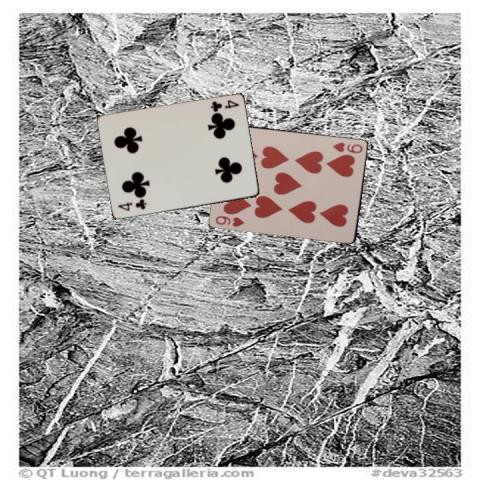4c: (207, 98, 241, 114), (115, 196, 148, 212)
9h: (330, 139, 364, 155), (213, 213, 246, 228)
